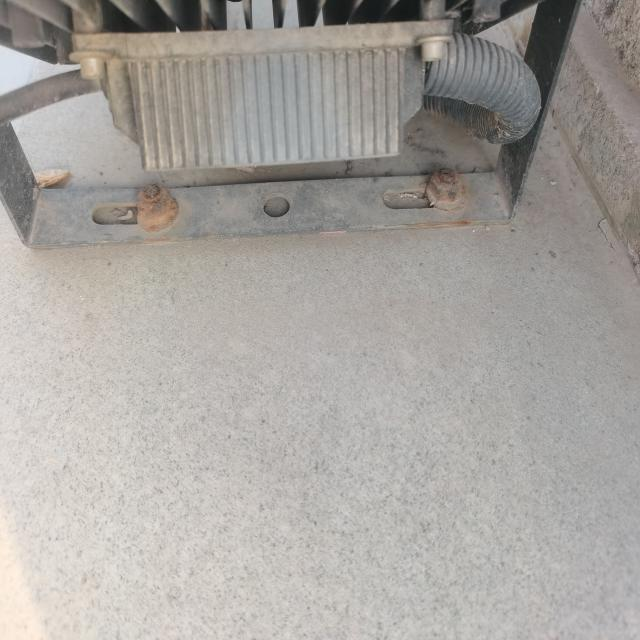bolt nut: (427, 164, 465, 204), (136, 182, 173, 221)
